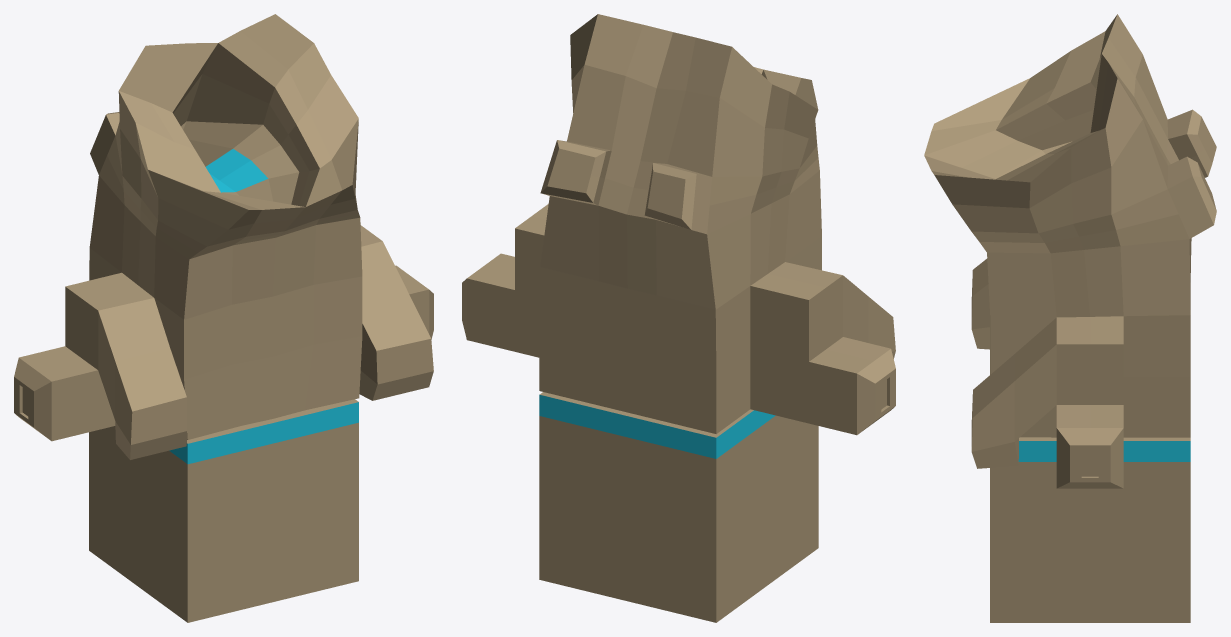
File: WaterTotem.fbx
3 views of the same model, side by side, from view 1: azimuth 30°, elevation 25°; view 2: azimuth 150°, elevation 25°; view 3: azimuth 270°, elevation 25° (orthographic). The views are drawn at different scales.
Parts seen in each view (by area): view 1: TotemTop, TotemBottom; view 2: TotemTop, TotemBottom; view 3: TotemTop, TotemBottom.
Boxes of the visible parts, bbox=[...] form: TotemTop: bbox=[14, 14, 433, 459]; TotemBottom: bbox=[89, 399, 358, 622]; TotemTop: bbox=[462, 14, 895, 435]; TotemBottom: bbox=[539, 392, 818, 622]; TotemTop: bbox=[924, 14, 1216, 488]; TotemBottom: bbox=[990, 437, 1190, 622].
Size of the model in its own units: 467 by 587 by 292.
